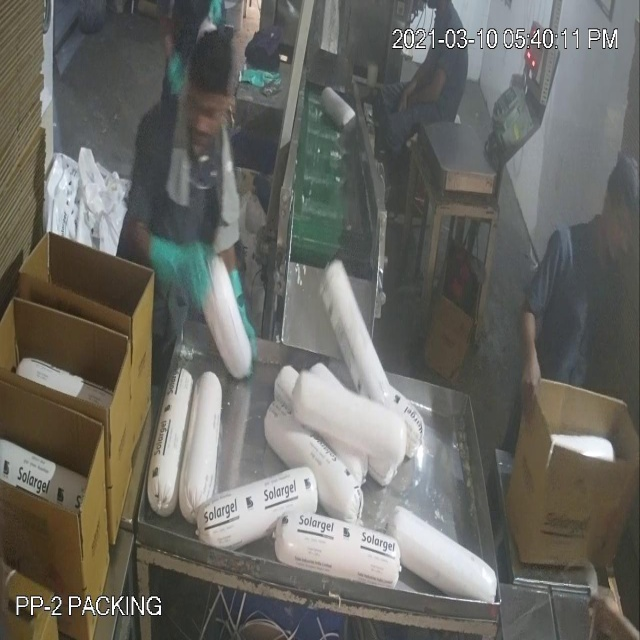Guantes: (143, 226, 216, 300)
Sin_guantes: (514, 289, 549, 426), (397, 54, 458, 120)
